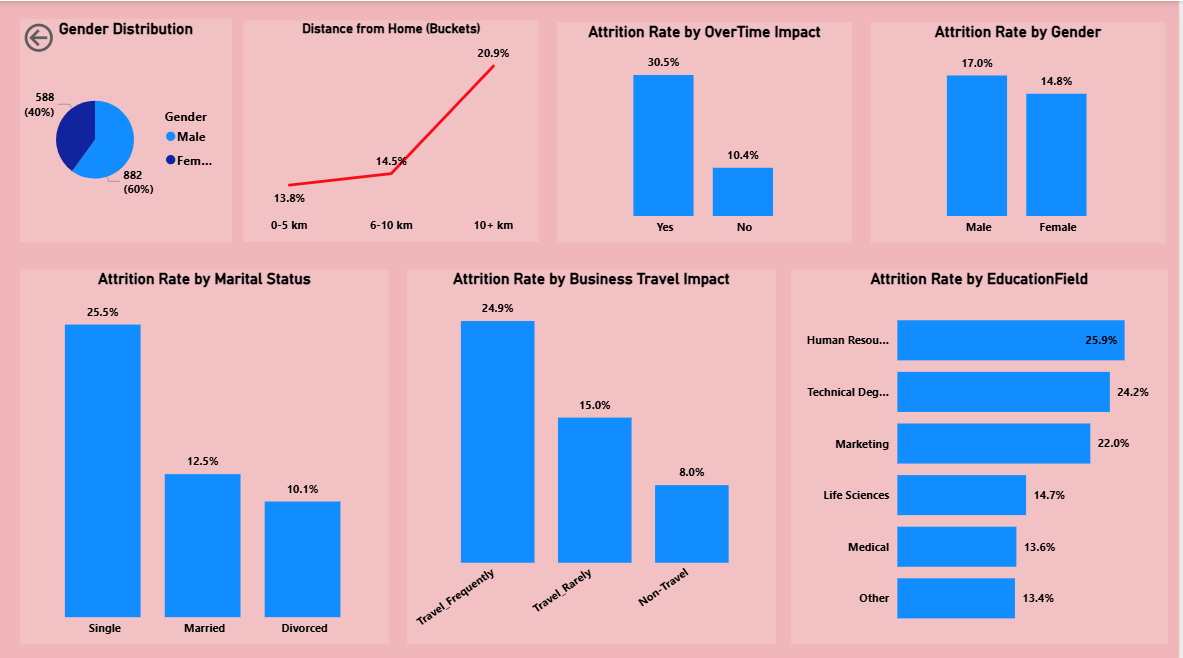

Layout of this report page (visuals, bound fields, positions):
{"tool":"powerbi","page":{"name":"Workforce Profile & Trends","canvas":[1280,720],"ordinal":1},"visuals":[{"type":"pieChart","title":"Gender Distribution","fields":{"Category":["HR_Analytics.Gender"],"Y":["Sum(HR_Analytics.EmployeeCount)"]},"box":[23.3,20,230,241.7],"z":0},{"type":"clusteredColumnChart","title":"Attrition Rate by Gender","fields":{"Category":["HR_Analytics.Gender"],"Y":["HR_Analytics.AttritionRate"]},"box":[945,23.3,320,240],"z":1000},{"type":"columnChart","title":"Attrition Rate by Marital Status","fields":{"Category":["HR_Analytics.MaritalStatus"],"Y":["HR_Analytics.AttritionRate"]},"box":[23.3,291.7,400,406.7],"z":2000},{"type":"barChart","title":"Attrition Rate by EducationField","fields":{"Category":["HR_Analytics.EducationField"],"Y":["HR_Analytics.AttritionRate"]},"box":[858.3,291.7,408.3,406.7],"z":3000},{"type":"columnChart","title":" Attrition Rate by Business Travel Impact ","fields":{"Category":["HR_Analytics.BusinessTravel"],"Y":["HR_Analytics.AttritionRate"]},"box":[441.7,291.7,400,406.7],"z":4000},{"type":"clusteredColumnChart","title":"Attrition Rate by OverTime Impact ","fields":{"Category":["HR_Analytics.OverTime"],"Y":["HR_Analytics.AttritionRate"]},"box":[605,23.3,320,240],"z":5000},{"type":"lineChart","title":"Distance from Home (Buckets)","fields":{"Category":["HR_Analytics.Distance Bucket"],"Y":["HR_Analytics.AttritionRate"]},"box":[265,21.7,320,240],"z":6000},{"type":"actionButton","box":[22.8,19.5,42.3,40.7],"z":6001}]}

Visuals, with their boxes in screenshot pixels (x1, y1, x2, y2), scaled from the page's 1280x720 canvas onto the 1183x658 screenshot:
"Gender Distribution" pieChart: box=[22, 18, 234, 239]
"Attrition Rate by Gender" clusteredColumnChart: box=[873, 21, 1169, 241]
"Attrition Rate by Marital Status" columnChart: box=[22, 267, 391, 638]
"Attrition Rate by EducationField" barChart: box=[793, 267, 1171, 638]
" Attrition Rate by Business Travel Impact " columnChart: box=[408, 267, 778, 638]
"Attrition Rate by OverTime Impact " clusteredColumnChart: box=[559, 21, 855, 241]
"Distance from Home (Buckets)" lineChart: box=[245, 20, 541, 239]
actionButton: box=[21, 18, 60, 55]
